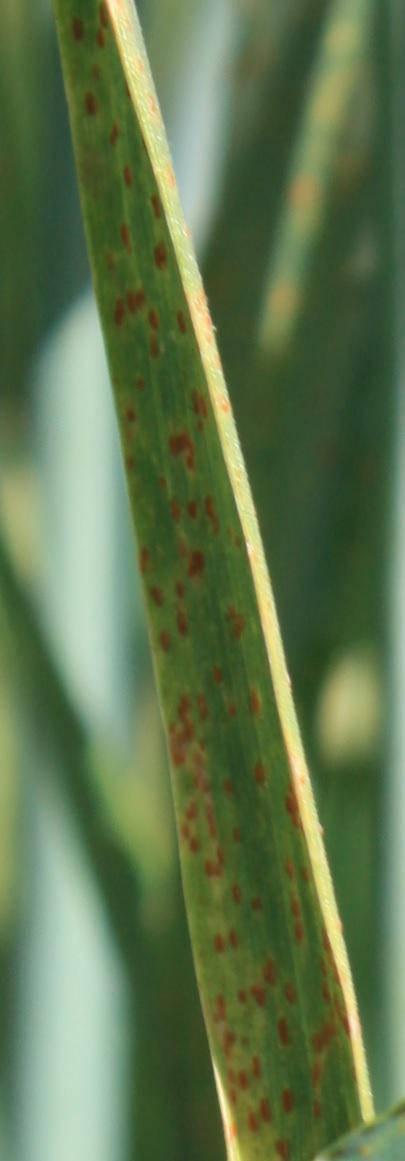Wheat: (117, 437, 367, 1160)
